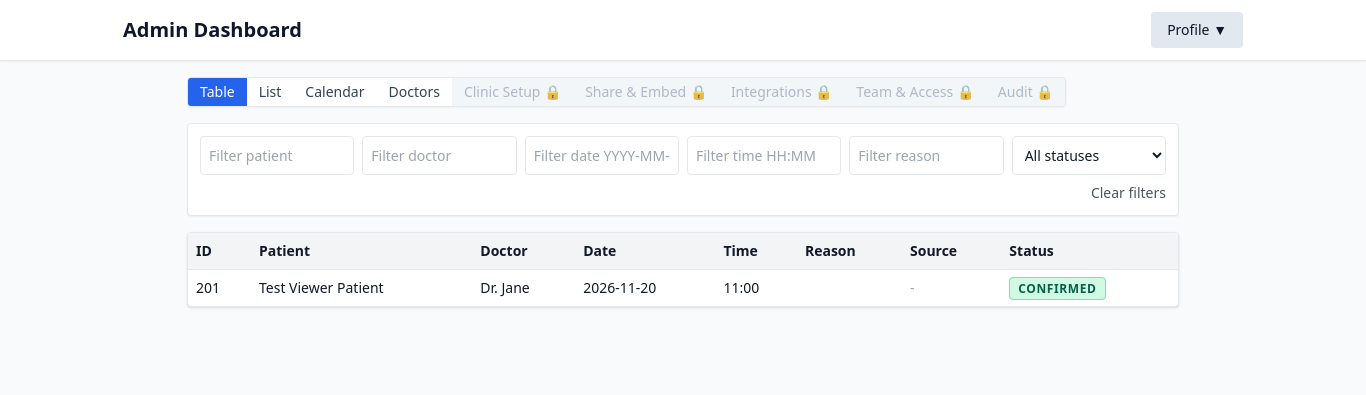
Test case: Dashboard Views and Navigation (Tasks A4, A5, A6, A7) › Tab Visibility & Access Control for Presets › viewer: sees Table, List, Calendar, Doctors (read-only); sees locked hints for admin tabs; no New Appointment
Expected: the text "Test Viewer Patient" is shown, [251,270,472,306]
Expected: the button "Table" is enabled, [188,78,247,106]
# Clicking Doctors shows read-only doctors directory
What coordinates should you click on to do the following:
click the button "Doctors"
I would click on:
 (414, 92)
Its box is [376,78,452,106].
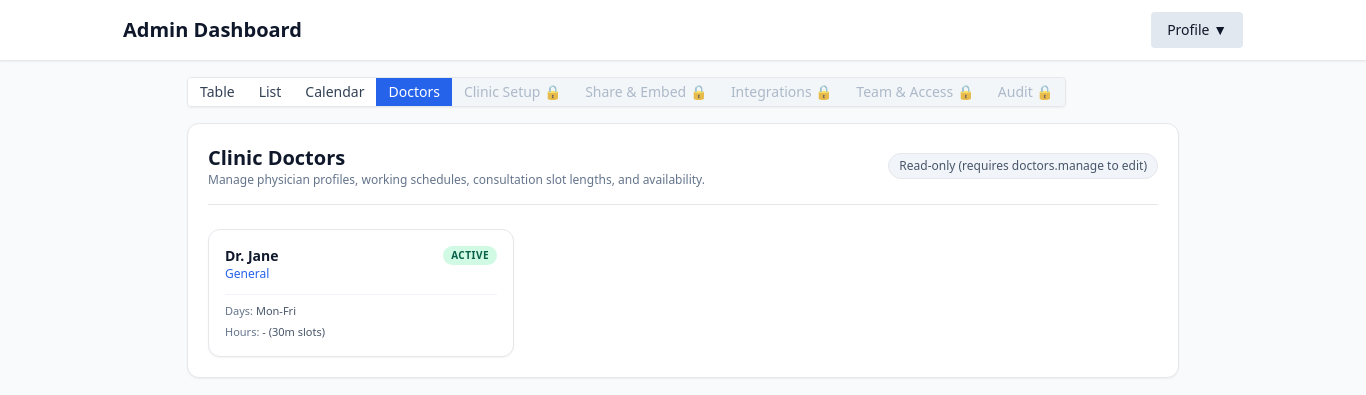
Expected: the button with test id "tab-setup-locked" is disabled, [452,78,573,106]
Expected: the element with test id "doctor-management" is shown, [187,123,1179,378]
Expected: the text "Read-only (requires doctors.manage to edit)" is shown, [888,153,1158,179]
